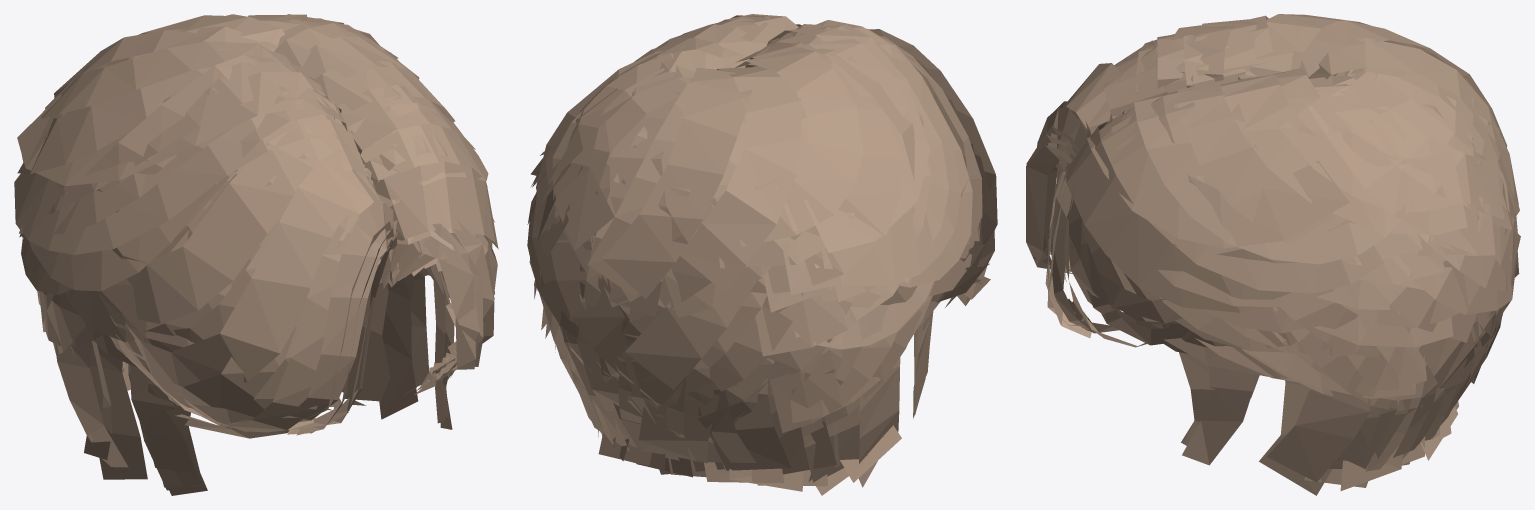
Rendered from male_hair_09_lod1.glb.
3 renders of one model, left to right at view 1: azimuth 30°, elevation 25°; view 2: azimuth 150°, elevation 25°; view 3: azimuth 270°, elevation 25°, orthographic. The views are drawn at different scales.
Parts seen in each view (by area): view 1: hair_09; view 2: hair_09; view 3: hair_09.
Part boxes in pixels (left/top/right/bottom): hair_09: left=14, top=14, right=498, bottom=495; hair_09: left=527, top=14, right=997, bottom=495; hair_09: left=1026, top=14, right=1520, bottom=495.
Bounding box in the file's own units: 0.1947 × 0.1935 × 0.2203.
